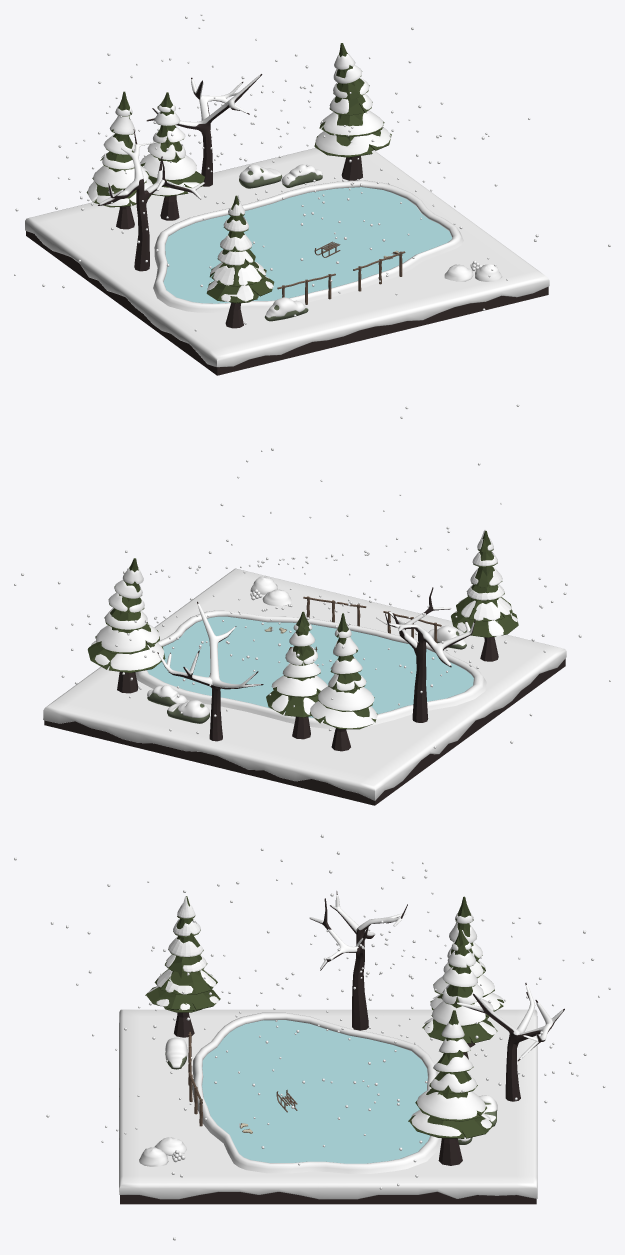
File: 12_Ice_Rink_fbx.fbx
3 views of the same model, one above another, from view 1: azimuth 30°, elevation 25°; view 2: azimuth 150°, elevation 25°; view 3: azimuth 270°, elevation 25° (orthographic). The views are drawn at different scales.
Visible parts, largest first — view 1: Ground, Ice_Rink, Ice, Snow_Fir_3, Tree, Snow_Fir_4, Snow_Fir_2, Snow_Fir_1, Fir_3, Snow, Fir_4, Fir_1 (+4 smaller); view 2: Ground, Ice_Rink, Ice, Snow_Fir_3, Snow_Fir_2, Tree, Snow_Fir_1, Fir_4, Snow_Fir_4, Snow, Fir_3, Fir_1 (+3 smaller); view 3: Ground, Ice_Rink, Ice, Snow_Fir_3, Tree, Fir_4, Snow_Fir_1, Snow_Fir_4, Fir_3, Snow, Fir_1, Snow_Fir_2 (+4 smaller).
Boxes of the visible parts, box(x1,y1,x2,y2) form: Ground: box(25, 148, 549, 375); Ice_Rink: box(163, 187, 451, 303); Ice: box(153, 180, 463, 312); Snow_Fir_3: box(315, 52, 390, 155); Tree: box(98, 74, 262, 271); Snow_Fir_4: box(207, 195, 273, 302); Snow_Fir_2: box(87, 106, 152, 205); Snow_Fir_1: box(140, 105, 199, 195); Fir_3: box(314, 43, 391, 157); Snow: box(14, 14, 610, 331); Fir_4: box(206, 195, 274, 303); Fir_1: box(140, 92, 204, 196); Ground: box(43, 568, 566, 805); Ice_Rink: box(147, 616, 473, 718); Ice: box(135, 610, 486, 728); Snow_Fir_3: box(91, 568, 164, 670); Snow_Fir_2: box(310, 628, 377, 728); Tree: box(157, 587, 475, 741); Snow_Fir_1: box(271, 623, 327, 714); Fir_4: box(451, 530, 518, 637); Snow_Fir_4: box(454, 530, 517, 636); Snow: box(14, 404, 610, 748); Fir_3: box(87, 558, 165, 672); Fir_1: box(266, 611, 320, 717); Ground: box(119, 1009, 537, 1204); Ice_Rink: box(202, 1020, 429, 1163); Ice: box(192, 1012, 441, 1173); Snow_Fir_3: box(411, 1022, 491, 1136); Tree: box(310, 891, 564, 1101); Fir_4: box(145, 896, 220, 1012); Snow_Fir_1: box(424, 940, 496, 1034); Snow_Fir_4: box(148, 896, 218, 1009); Fir_3: box(408, 1010, 493, 1138); Snow: box(14, 834, 610, 1240); Fir_1: box(422, 929, 497, 1043); Snow_Fir_2: box(430, 912, 503, 1010).
Size of what is drawn, in the model's own units: 3027 by 1057 by 2580.
